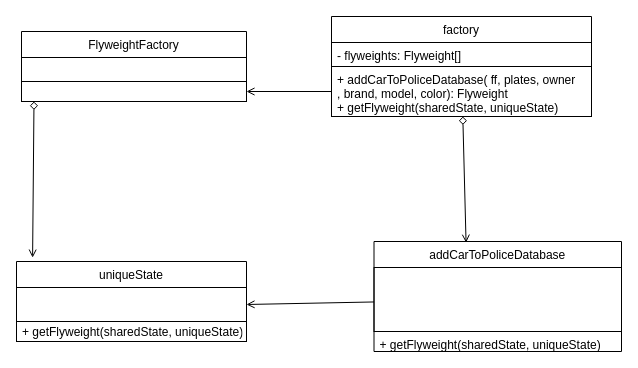
The diagram is 638 pixels wide and 368 high, and some of its shapes have lost their labels. The centre of each missing label's shape, as x and y in pixels:
+ getFlyweight(sharedState): point 133,91
- color - model - brand - uniqueState: point 497,299
- plates - owner: point 131,304
- uniqueState: UniqueState[]: point 133,69
